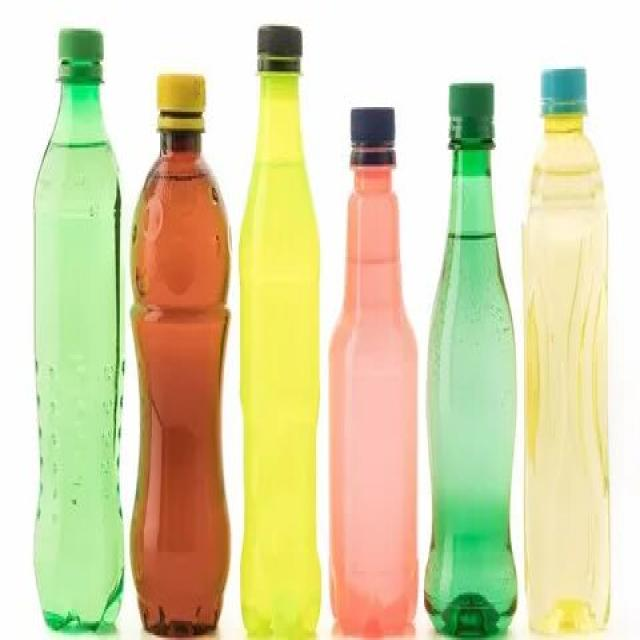brown: (129, 130, 232, 636)
green: (34, 79, 124, 630), (426, 139, 517, 640)
